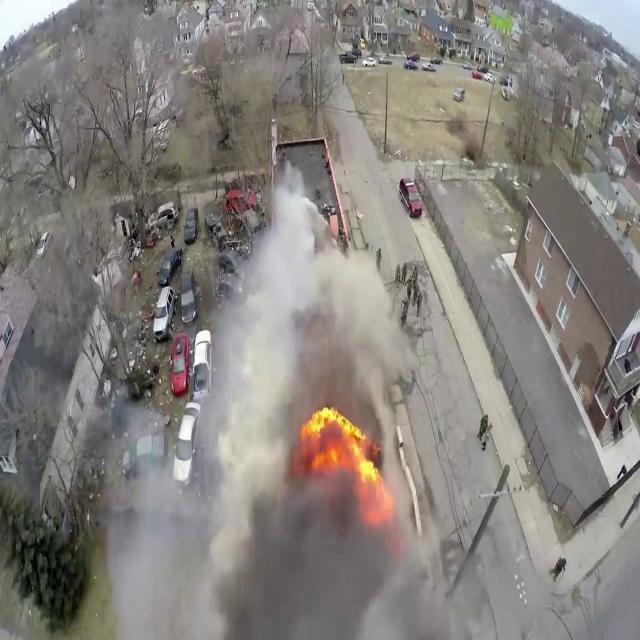Fire: (299, 393, 382, 491)
Smoke: (150, 172, 334, 638)
